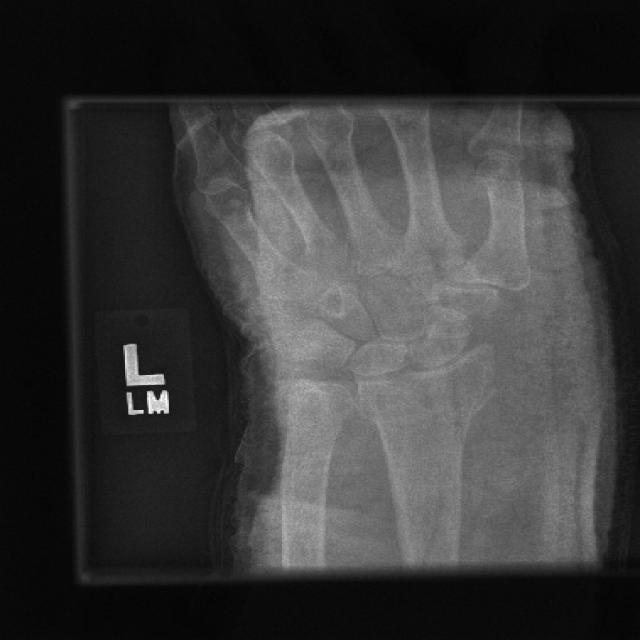fingers positive: (331, 356, 536, 458)
